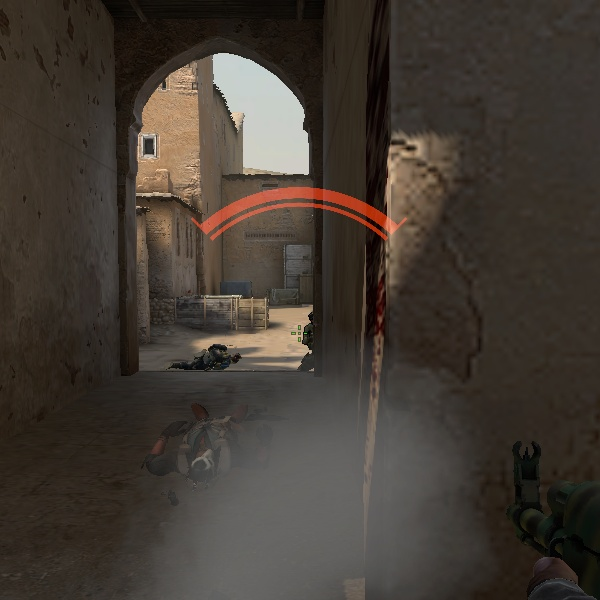ct_body: (298, 309, 322, 376)
ct_head: (307, 310, 314, 325)
